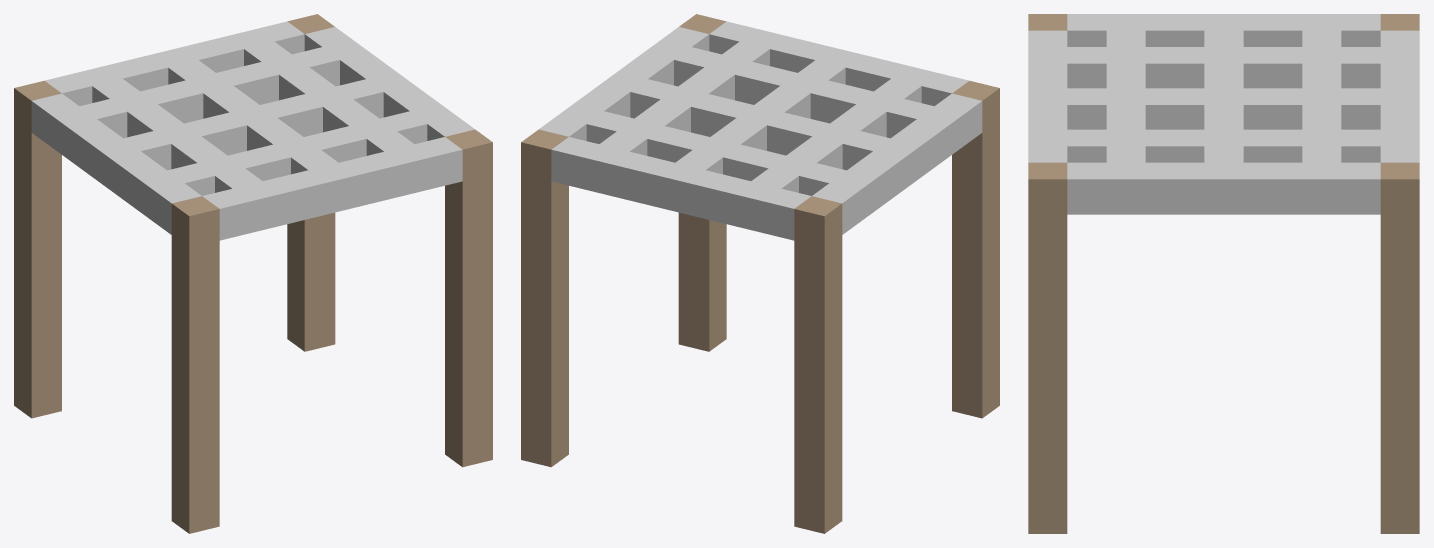
The model's file is scafo.glb.
The picture shows the model from 3 angles, left to right: view 1: azimuth 30°, elevation 25°; view 2: azimuth 150°, elevation 25°; view 3: azimuth 270°, elevation 25°; orthographic projection. The views are drawn at different scales.
Visible parts, largest first — view 1: Mesh_Mesh_head_geo.001_lambert2SG.001; view 2: Mesh_Mesh_head_geo.001_lambert2SG.001; view 3: Mesh_Mesh_head_geo.001_lambert2SG.001.
Part boxes in pixels (box(x1,y1,x2,y2)): Mesh_Mesh_head_geo.001_lambert2SG.001: box(14, 14, 492, 533); Mesh_Mesh_head_geo.001_lambert2SG.001: box(521, 14, 999, 533); Mesh_Mesh_head_geo.001_lambert2SG.001: box(1028, 14, 1419, 533).
Bounding box in the file's own units: 20 × 20 × 20.
